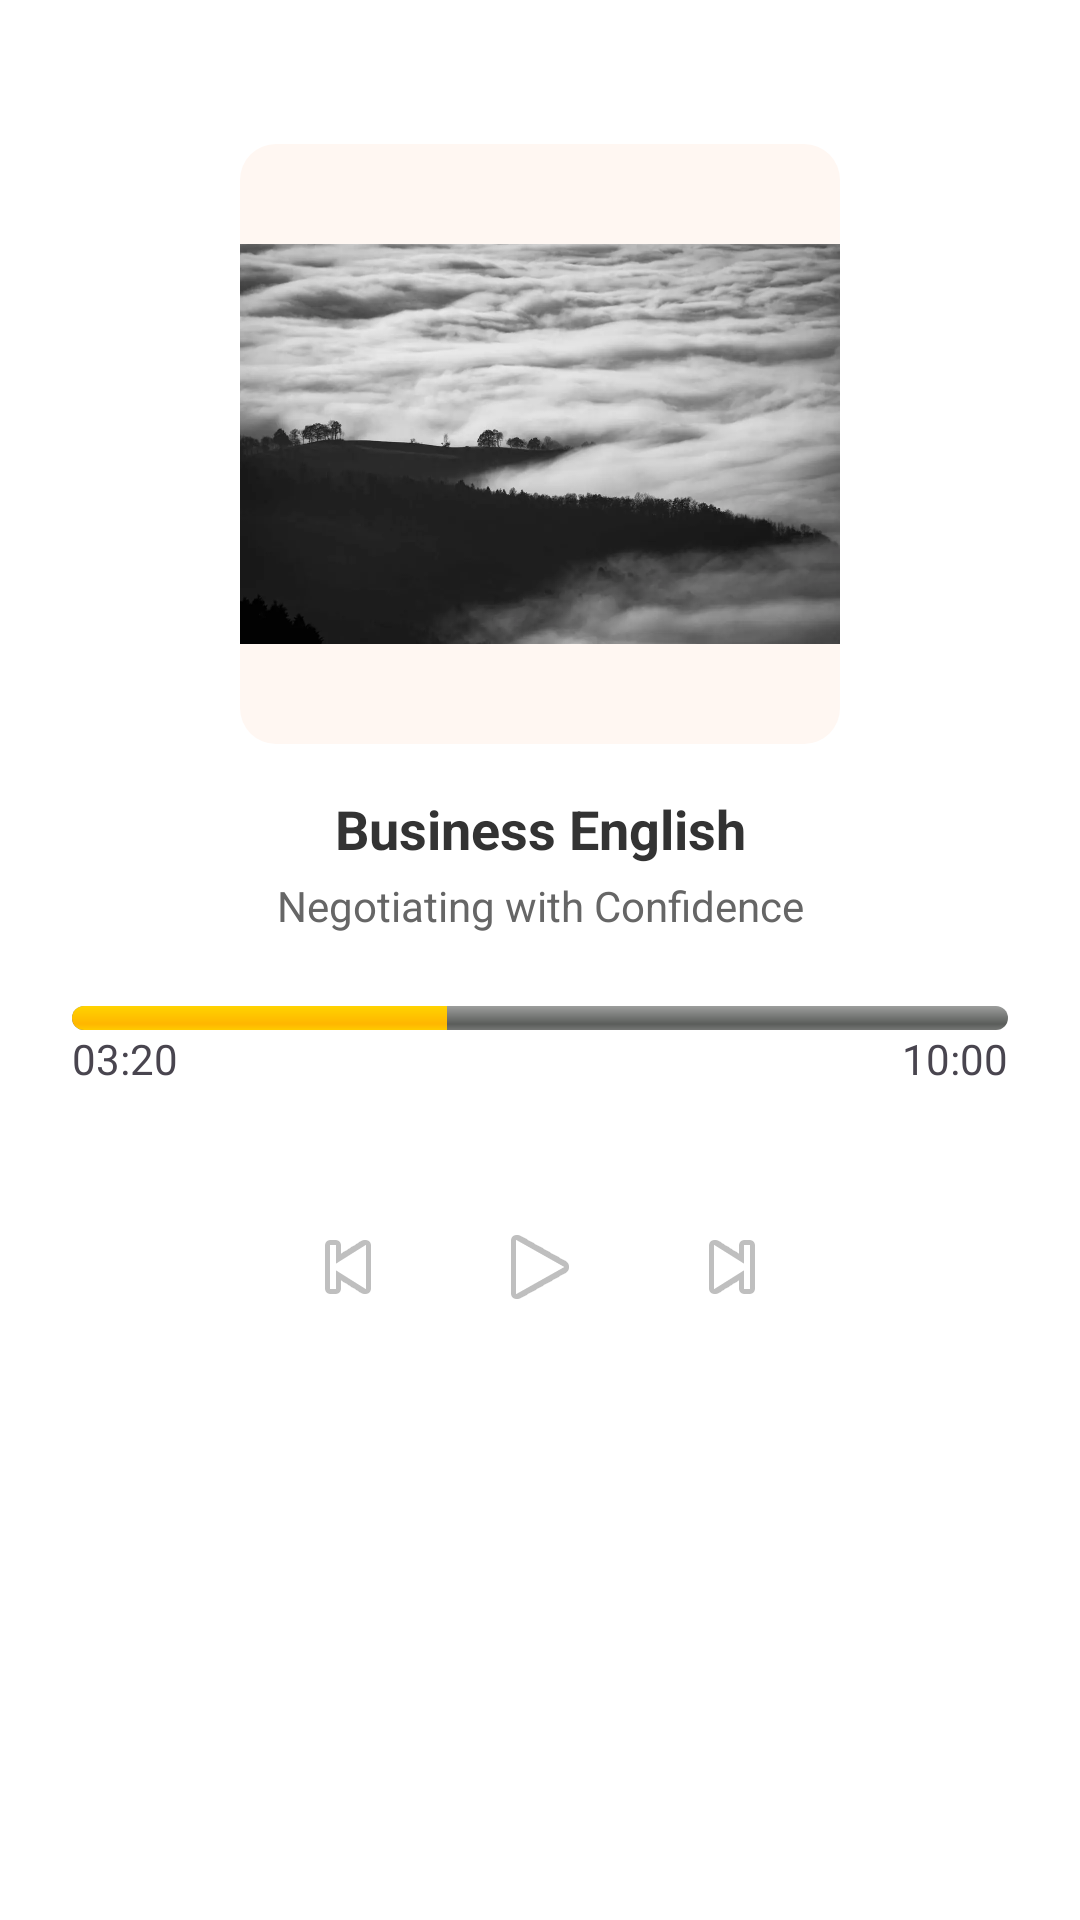

Icons on this 1080 × 1920 Android screen, each with its box as (x1, y1, x2, y2):
next: (709, 1240, 755, 1294)
play: (511, 1235, 569, 1299)
previous: (325, 1240, 371, 1294)
